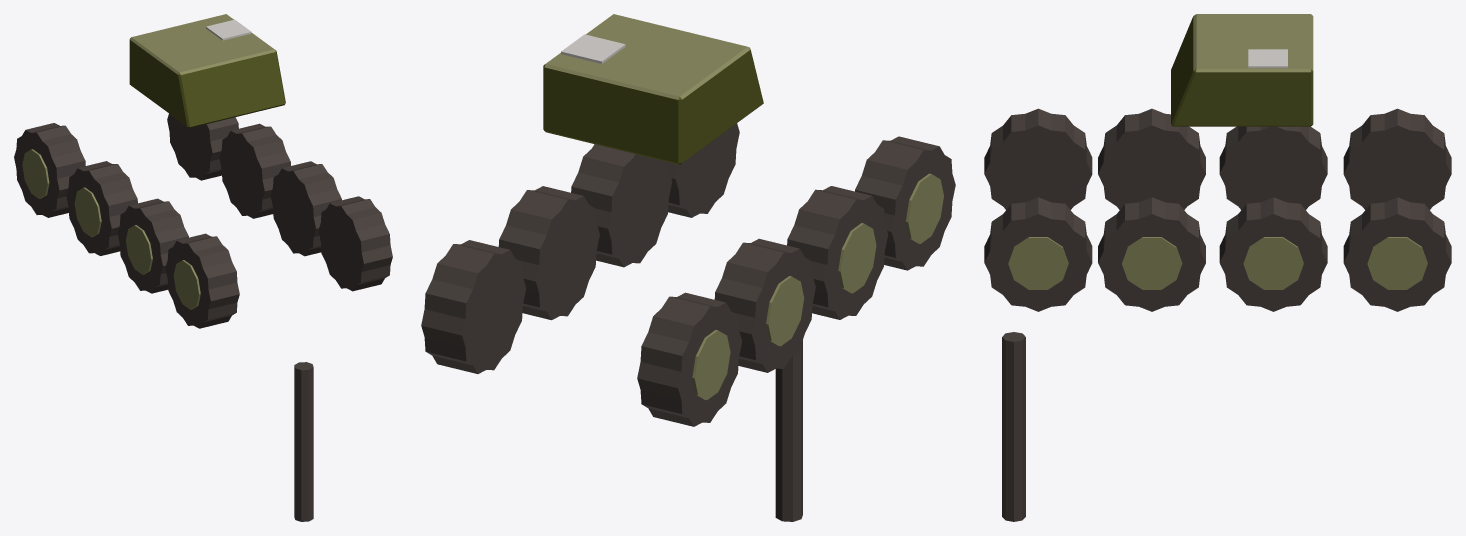
File: SM_VCR_Dragon_Animable_v1_Liso_LOD1.fbx
3 views of the same model, side by side, from view 1: azimuth 30°, elevation 25°; view 2: azimuth 150°, elevation 25°; view 3: azimuth 270°, elevation 25° (orthographic). The views are drawn at different scales.
Visible parts, largest first — view 1: Torre, Rueda_1L, Rueda_1R, Rueda_4R, Rueda_3R, Rueda_3L, Rueda_2L, Rueda_2R, Canon, Rueda_4L; view 2: Torre, Rueda_4L, Rueda_4R, Rueda_3R, Rueda_3L, Rueda_2R, Rueda_1R, Rueda_2L, Canon, Rueda_1L; view 3: Torre, Rueda_1L, Rueda_4L, Rueda_3L, Rueda_2L, Rueda_1R, Rueda_4R, Rueda_2R, Rueda_3R, Canon.
Part boxes in pixels (left/top/right/bottom): Torre: left=129, top=14, right=285, bottom=128; Rueda_1L: left=318, top=196, right=392, bottom=291; Rueda_1R: left=165, top=233, right=239, bottom=328; Rueda_4R: left=14, top=123, right=85, bottom=217; Rueda_3R: left=66, top=161, right=137, bottom=255; Rueda_3L: left=219, top=123, right=290, bottom=218; Rueda_2L: left=270, top=161, right=341, bottom=256; Rueda_2R: left=117, top=198, right=188, bottom=293; Canon: left=294, top=362, right=313, bottom=521; Rueda_4L: left=167, top=113, right=238, bottom=180; Torre: left=543, top=14, right=763, bottom=164; Rueda_4L: left=421, top=240, right=526, bottom=373; Rueda_4R: left=637, top=292, right=742, bottom=426; Rueda_3R: left=714, top=238, right=815, bottom=372; Rueda_3L: left=498, top=186, right=599, bottom=320; Rueda_2R: left=787, top=186, right=888, bottom=319; Rueda_1R: left=855, top=136, right=955, bottom=270; Rueda_2L: left=571, top=144, right=672, bottom=267; Canon: left=775, top=340, right=802, bottom=521; Rueda_1L: left=668, top=123, right=739, bottom=217; Torre: left=1171, top=14, right=1313, bottom=126; Rueda_1L: left=984, top=197, right=1092, bottom=311; Rueda_4L: left=1343, top=197, right=1451, bottom=311; Rueda_3L: left=1219, top=197, right=1327, bottom=311; Rueda_2L: left=1098, top=197, right=1205, bottom=311; Rueda_1R: left=984, top=108, right=1092, bottom=209; Rueda_4R: left=1343, top=108, right=1451, bottom=209; Rueda_2R: left=1098, top=108, right=1205, bottom=209; Rueda_3R: left=1219, top=126, right=1327, bottom=209; Canon: left=1002, top=332, right=1025, bottom=521.
Size of what is drawn, in the model's own units: 3.2 by 6.63 by 5.88.
